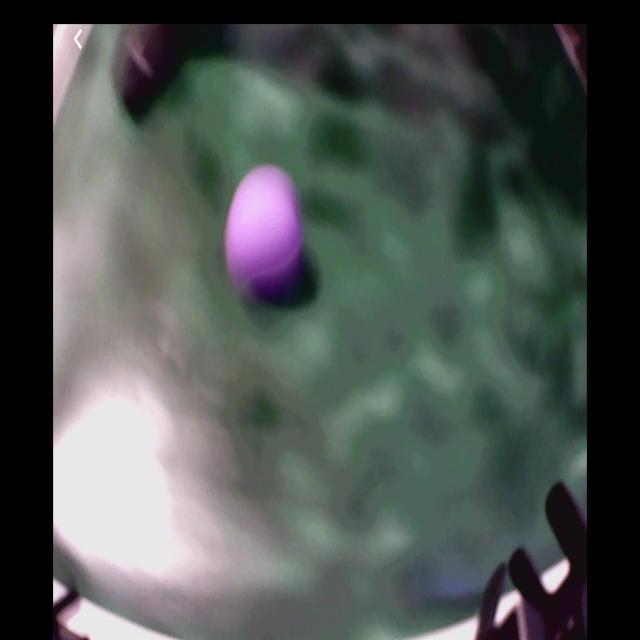ball: (227, 168, 303, 287)
